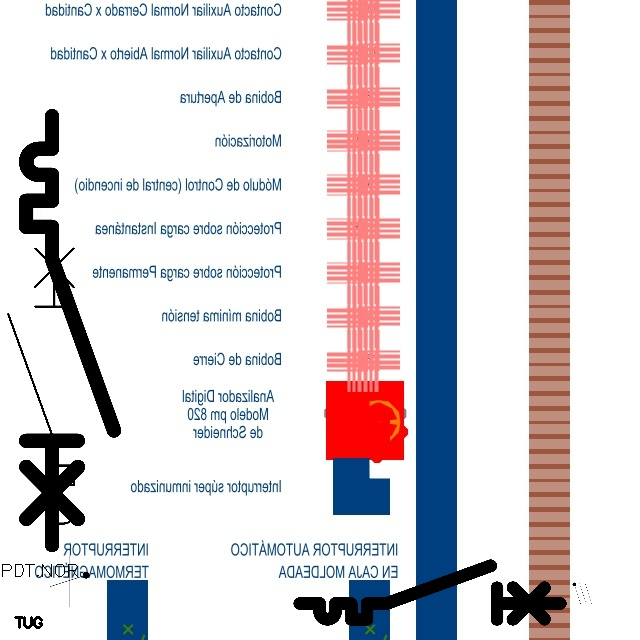interruptor_termomagnetico: (15, 105, 125, 556), (0, 220, 82, 555), (293, 559, 567, 626)
